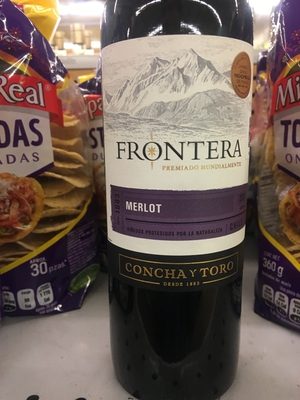frontera merlot: (98, 3, 250, 371)
